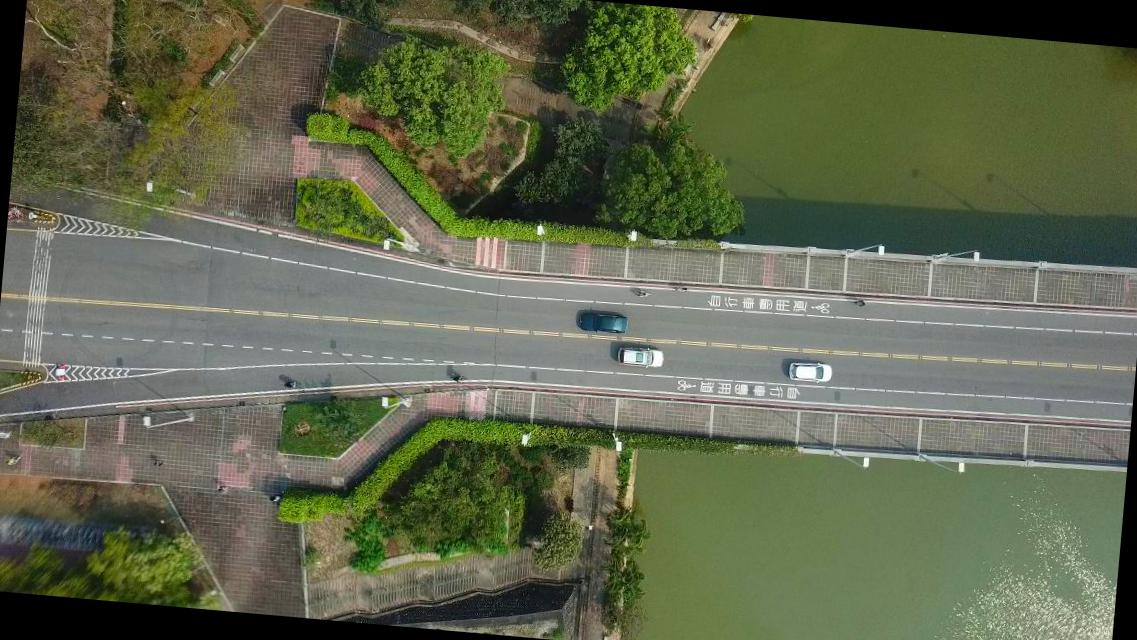vehicle: (615, 344, 664, 370), (577, 311, 628, 335), (786, 358, 832, 384)
